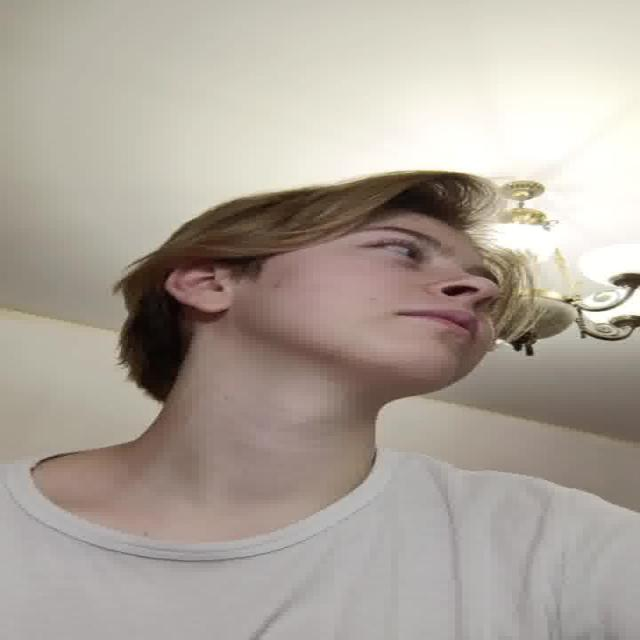earlobe: (183, 298, 234, 314)
eye: (360, 239, 429, 259)
nose: (424, 288, 494, 312)
wholeear: (165, 267, 233, 314)
